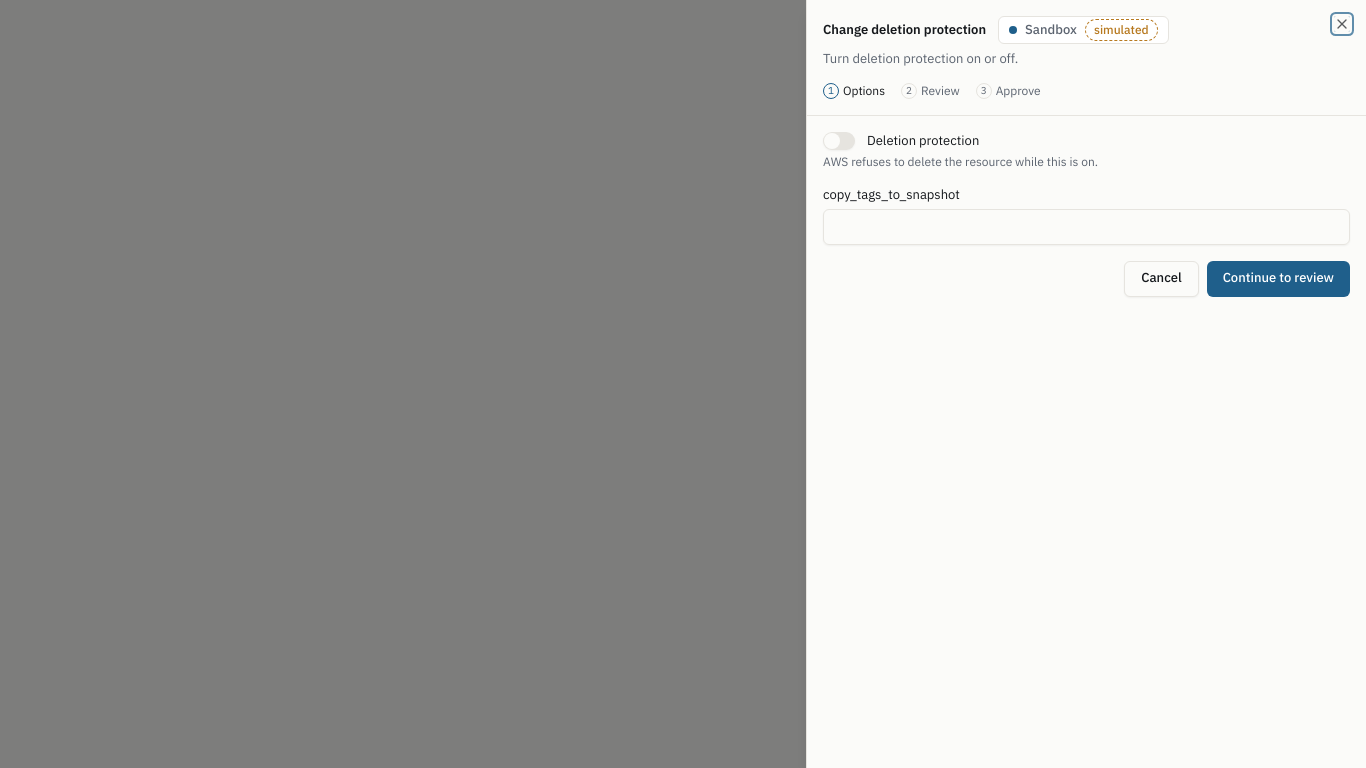
Test: TaskPanel flows › sends a required switch left off as off, because that is what the form shows
Check: the switch named "Deletion protection" is not checked, box 823,132 -> 855,150
Click the button "Continue to review".
click(1278, 279)  # box 1207,261 -> 1350,297
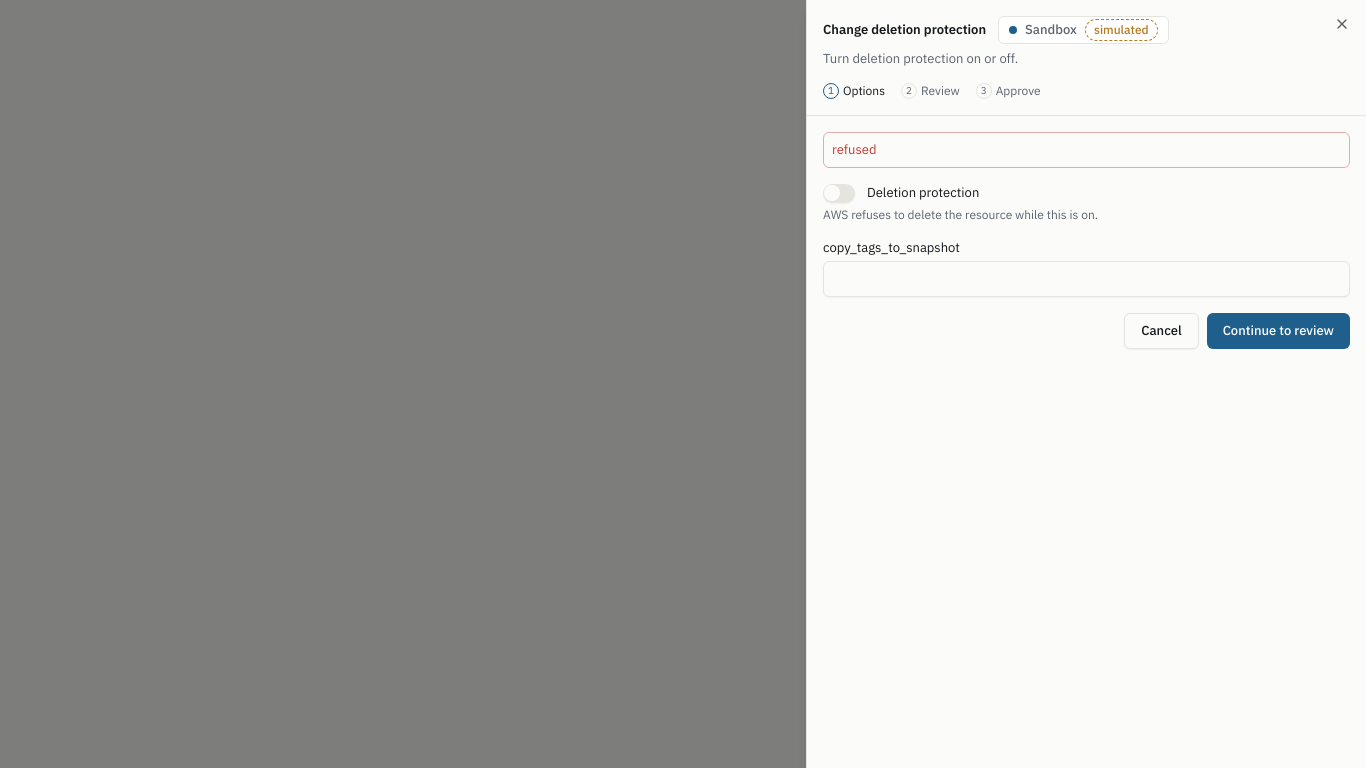
Check: the list item "refused" is shown, box 832,141 -> 876,158
